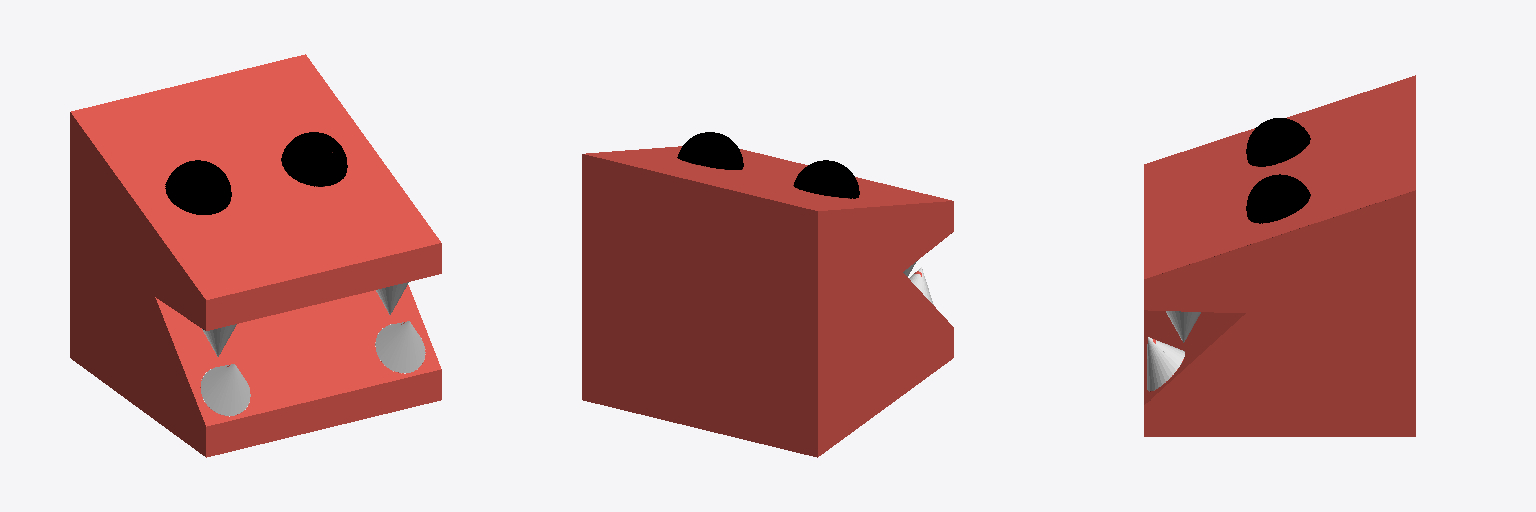
3 views of the same model, side by side, from view 1: azimuth 30°, elevation 25°; view 2: azimuth 150°, elevation 25°; view 3: azimuth 270°, elevation 25° (orthographic).
Parts seen in each view (by area): view 1: 立方体; view 2: 立方体; view 3: 立方体.
Part boxes in pixels (x1,y1,x2,y2): 立方体: (70, 54, 441, 457); 立方体: (582, 132, 953, 457); 立方体: (1144, 75, 1415, 436).
Bounding box in the file's own units: 1.9 × 1.9 × 1.9.
1 materials, 1 textured.